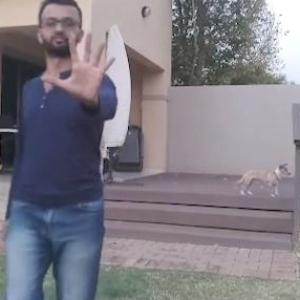follow_hand: (41, 26, 118, 106)
